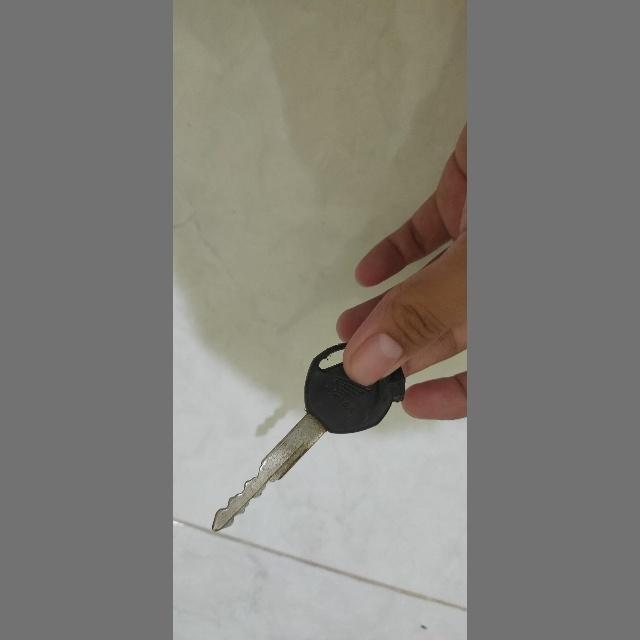Keys: (208, 334, 412, 546)
